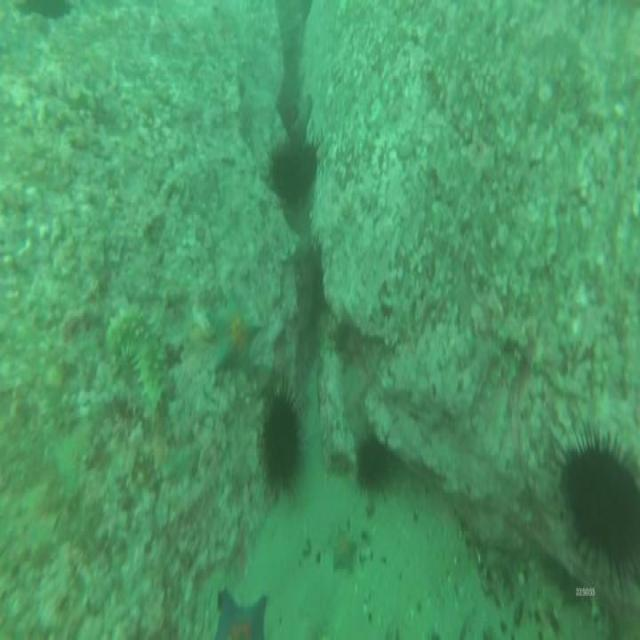echinus: (548, 411, 640, 604), (260, 378, 304, 504), (352, 433, 395, 503), (265, 140, 305, 203), (298, 139, 318, 191)
holothurian: (106, 305, 175, 419)
starfish: (204, 292, 266, 382), (213, 586, 272, 640), (328, 526, 357, 577)
